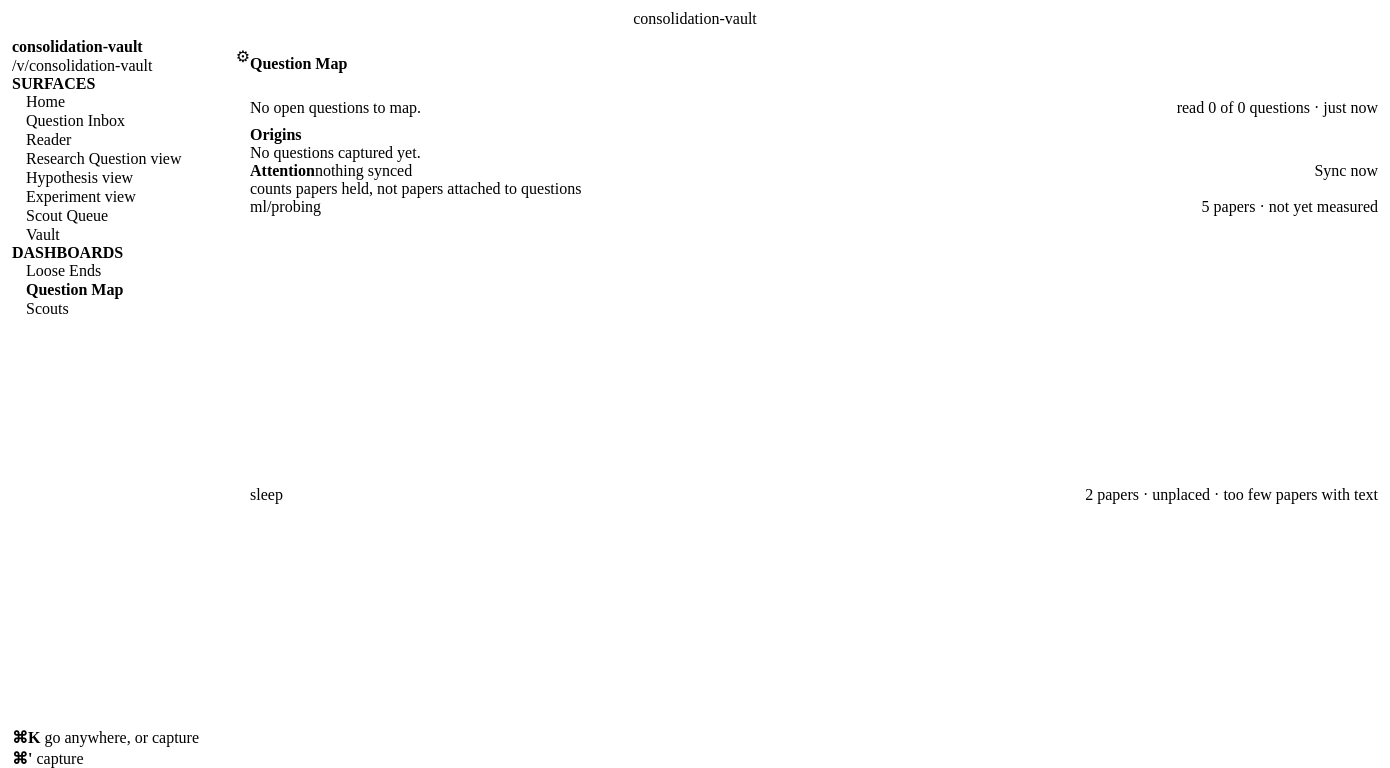
Test: the Attention panel — Sync now › opens a one-line confirm naming OpenAlex and what is sent on the first press, and sends nothing yet
The width and height of the screenshot is (1390, 768).
expect the element that starts with "Attention" is shown: met, box [250,162,1378,504]
Click the button "Sync now".
click(1346, 171)  # box [1314,162,1378,180]
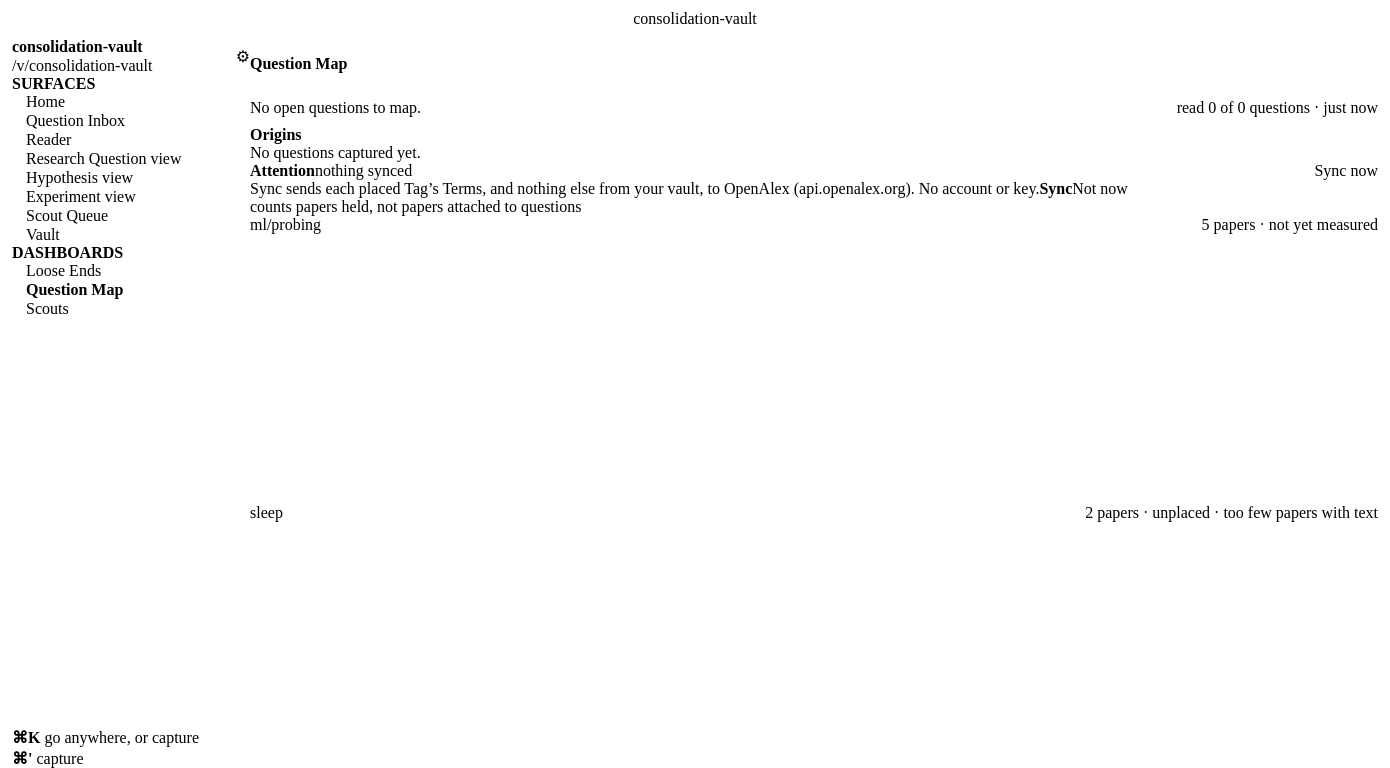
expect the element named "Confirm sync" shows "OpenAlex": met, box [250,180,1039,197]
expect the element named "Confirm sync" shows "Terms": met, box [250,180,1039,197]
expect the button "Sync" is shown: met, box [1039,180,1072,198]
